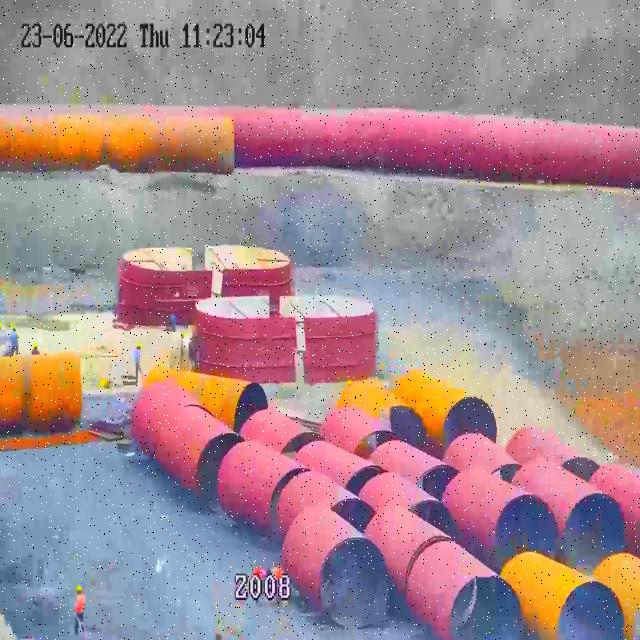Helmet: (76, 585, 83, 591), (33, 342, 38, 349), (11, 325, 16, 331), (136, 343, 142, 348), (181, 331, 184, 336), (0, 322, 2, 329)
Mask: (74, 594, 86, 614)
